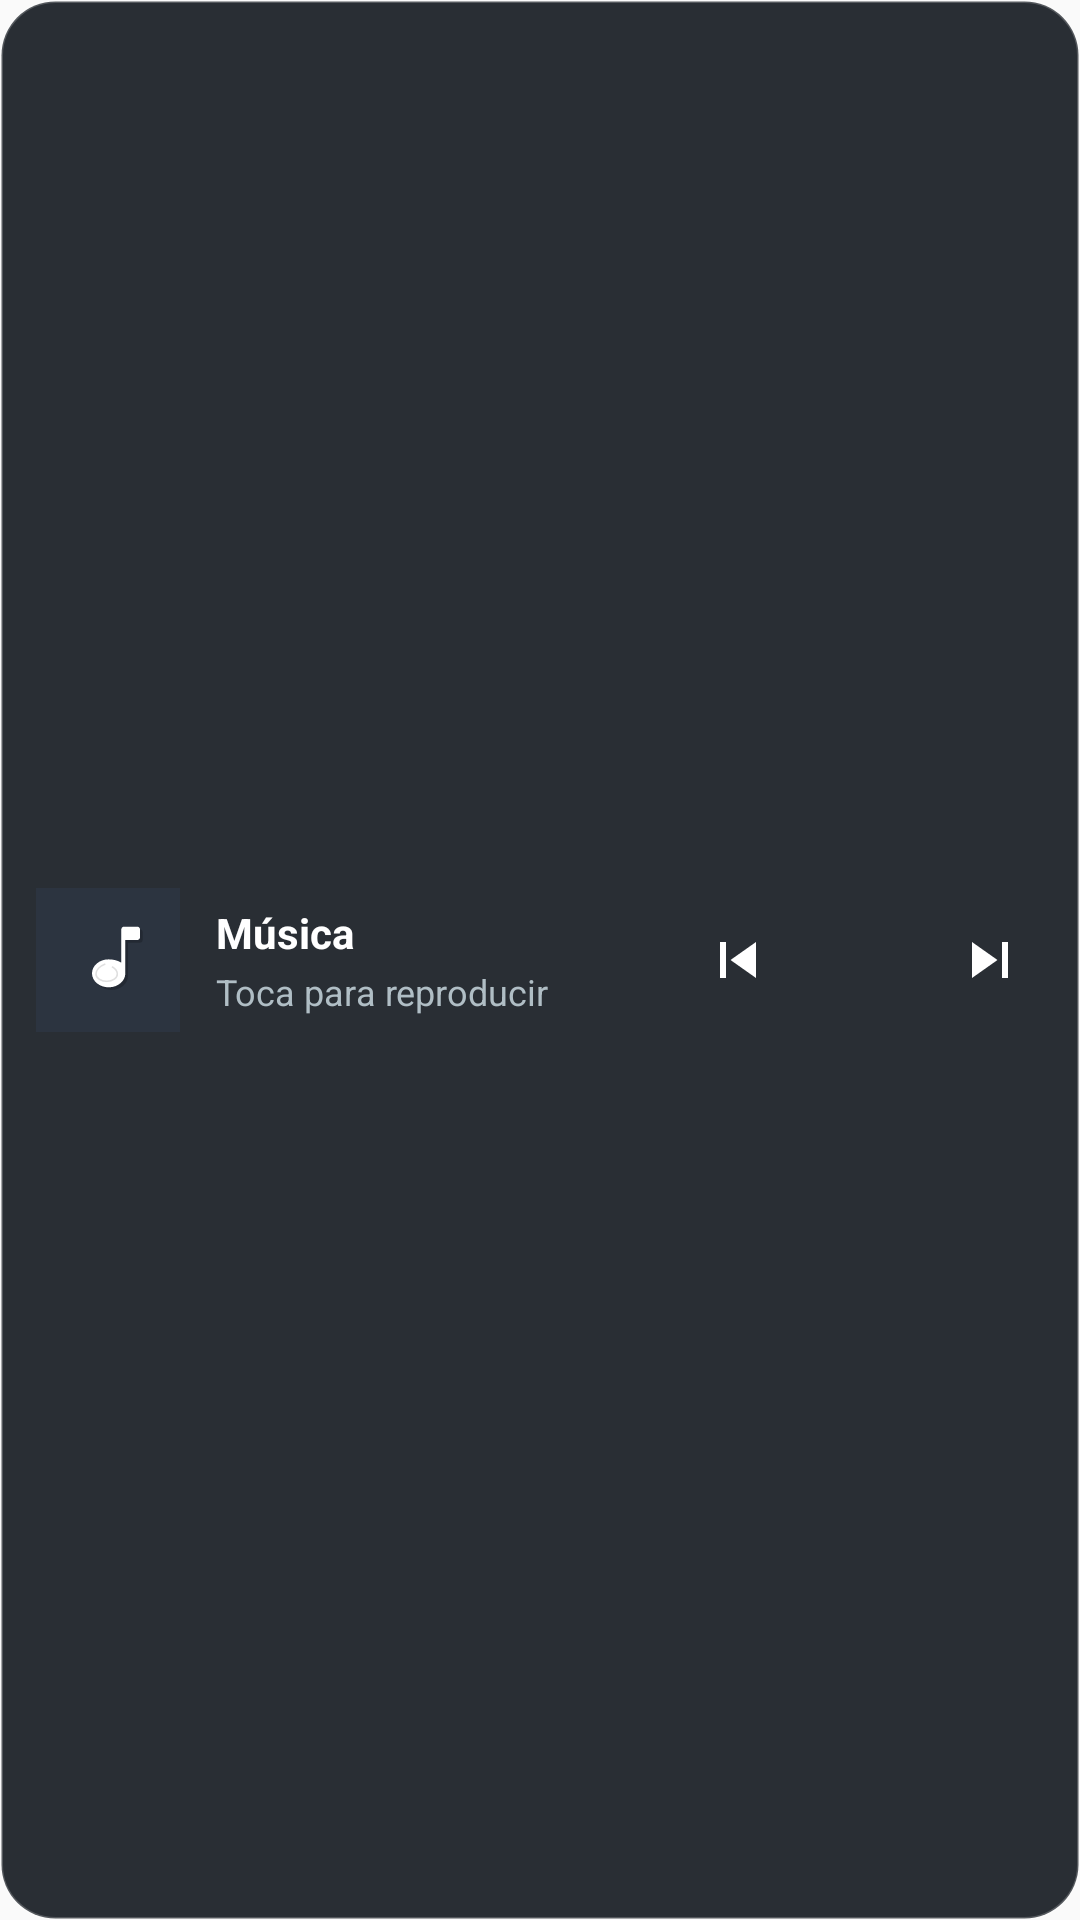

Named icons in this screenshot (1080 x 1920) and their bounding boxes, (x1, y1, x2, y2):
Anterior: (720, 942, 756, 978)
Siguiente: (972, 942, 1008, 978)
